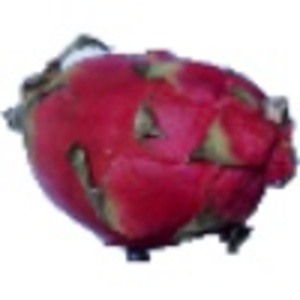pitaia: (1, 33, 300, 265)
